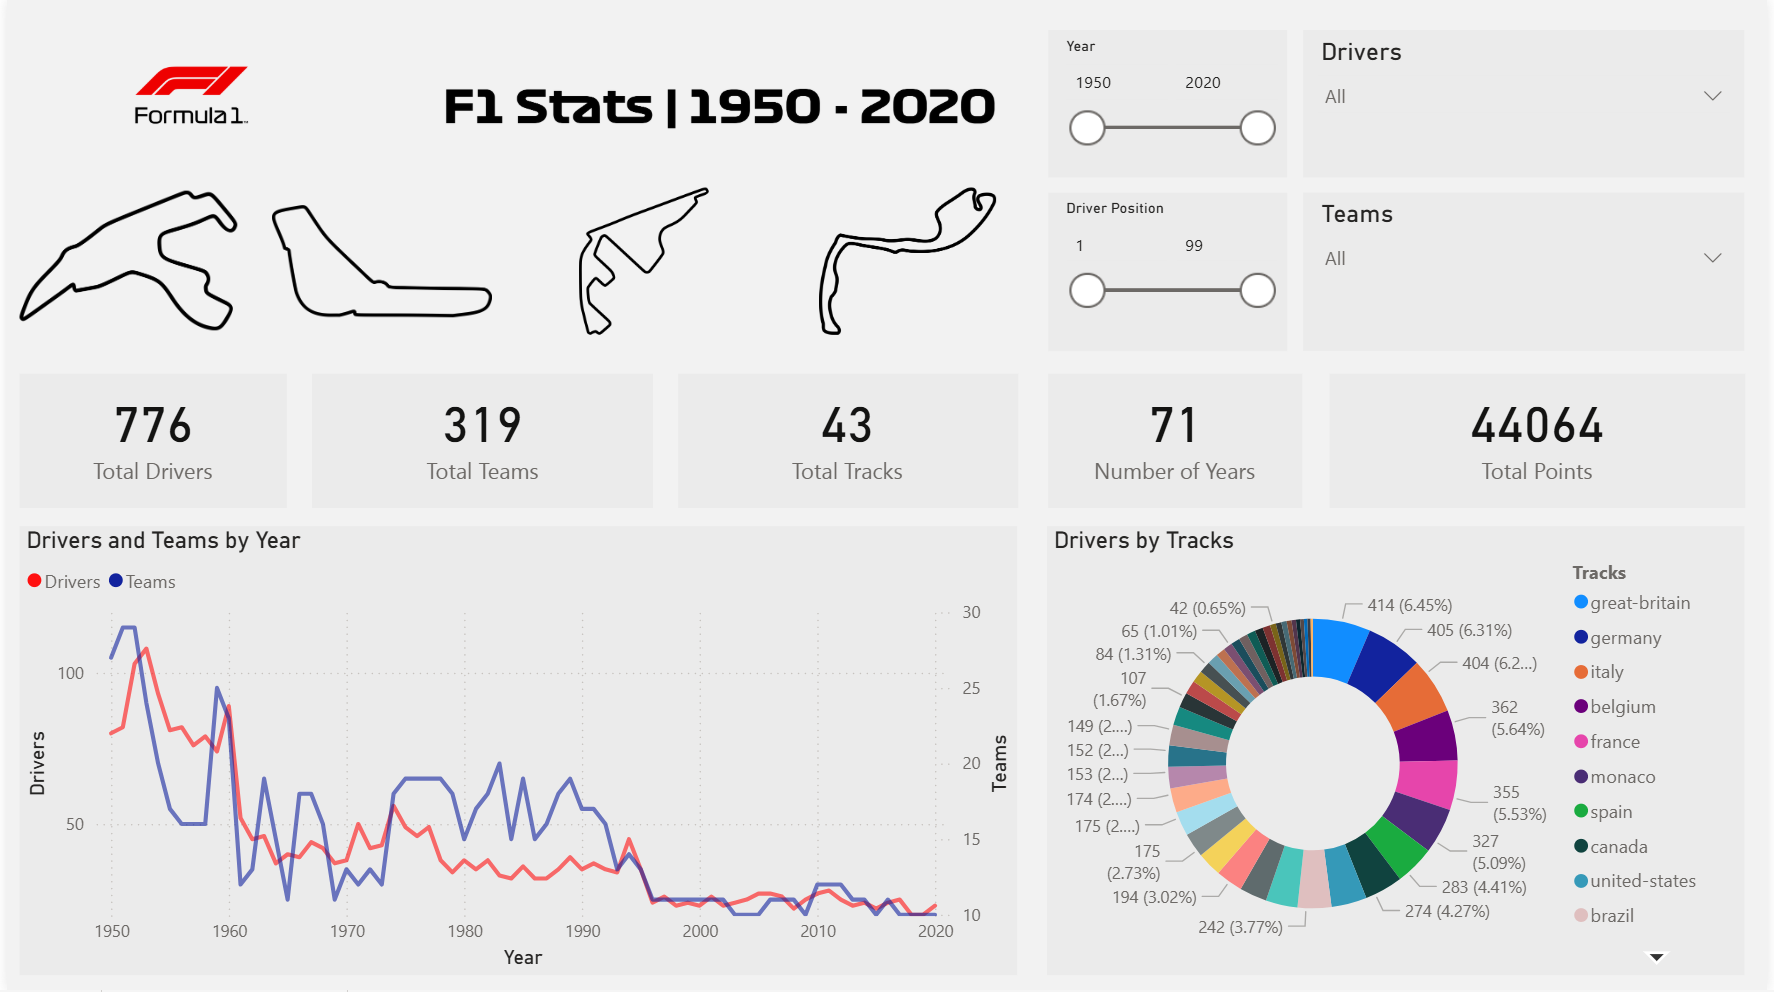

This screenshot's page, from the dashboard's own definition file:
{"tool":"powerbi","page":{"name":"Visual Stats","canvas":[1280,720],"ordinal":1},"visuals":[{"type":"image","title":"F1 Stats Banner","box":[317,21.8,403.2,106.8],"z":1000},{"type":"image","title":"F1 Logo","box":[9.2,10.3,250.4,118.3],"z":2000},{"type":"slicer","fields":{"Values":["RPT vw_RaceResults.Year"]},"box":[757,21.8,173.5,106.8],"z":3000},{"type":"slicer","fields":{"Values":["RPT vw_RaceResults.DriverTeam"]},"box":[943.1,140.1,320.5,114.9],"z":4000},{"type":"slicer","fields":{"Values":["RPT vw_RaceResults.DriverName"]},"box":[943.1,21.8,320.5,106.8],"z":5000},{"type":"cardVisual","fields":{"Data":["RPT vw_RaceResults.DriverName"]},"box":[9.2,272.2,194.1,97.6],"z":6000},{"type":"cardVisual","fields":{"Data":["RPT vw_RaceResults.DriverTeam"]},"box":[221.7,272.2,248.1,97.6],"z":7000},{"type":"cardVisual","fields":{"Data":["RPT vw_RaceResults.TrackName"]},"box":[488.2,272.2,247,97.6],"z":8000},{"type":"cardVisual","fields":{"Data":["RPT vw_RaceResults.Year"]},"box":[757,272.2,184.9,97.6],"z":9000},{"type":"lineChart","fields":{"Category":["RPT vw_RaceResults.Year"],"Y":["RPT vw_RaceResults.DriverName"],"Y2":["RPT vw_RaceResults.DriverTeam"]},"box":[9.5,383,725.8,326.3],"z":10000},{"type":"donutChart","fields":{"Category":["RPT vw_RaceResults.TrackName"],"Y":["RPT vw_RaceResults.DriverName"]},"box":[756.6,383,507.1,326.3],"z":11000},{"type":"cardVisual","fields":{"Data":["RPT vw_RaceResults.Points"]},"box":[961.5,272.2,302.1,97.6],"z":12000},{"type":"slicer","fields":{"Values":["RPT vw_RaceResults.DriverPosition"]},"box":[757,140.1,173.5,114.9],"z":13000},{"type":"image","box":[9.3,135.7,158.6,107.9],"z":14000},{"type":"image","box":[192.9,136.4,160,107.1],"z":15000},{"type":"image","box":[380,136.4,166.4,107.1],"z":16000},{"type":"image","box":[574.3,136.4,160.7,107.1],"z":17000}]}

Visuals, with their boxes in screenshot pixels (x1, y1, x2, y2), scaled from the page's 1280x720 canvas onto the 1774x992 screenshot:
"F1 Stats Banner" image: <bbox>439, 30, 998, 177</bbox>
"F1 Logo" image: <bbox>13, 14, 360, 177</bbox>
slicer - RPT vw_RaceResults.Year: <bbox>1049, 30, 1290, 177</bbox>
slicer - RPT vw_RaceResults.DriverTeam: <bbox>1307, 193, 1751, 351</bbox>
slicer - RPT vw_RaceResults.DriverName: <bbox>1307, 30, 1751, 177</bbox>
cardVisual - RPT vw_RaceResults.DriverName: <bbox>13, 375, 282, 510</bbox>
cardVisual - RPT vw_RaceResults.DriverTeam: <bbox>307, 375, 651, 510</bbox>
cardVisual - RPT vw_RaceResults.TrackName: <bbox>677, 375, 1019, 510</bbox>
cardVisual - RPT vw_RaceResults.Year: <bbox>1049, 375, 1305, 510</bbox>
lineChart - RPT vw_RaceResults.Year x RPT vw_RaceResults.DriverName: <bbox>13, 528, 1019, 977</bbox>
donutChart - RPT vw_RaceResults.TrackName x RPT vw_RaceResults.DriverName: <bbox>1049, 528, 1751, 977</bbox>
cardVisual - RPT vw_RaceResults.Points: <bbox>1333, 375, 1751, 510</bbox>
slicer - RPT vw_RaceResults.DriverPosition: <bbox>1049, 193, 1290, 351</bbox>
image: <bbox>13, 187, 233, 336</bbox>
image: <bbox>267, 188, 489, 335</bbox>
image: <bbox>527, 188, 757, 335</bbox>
image: <bbox>796, 188, 1019, 335</bbox>
